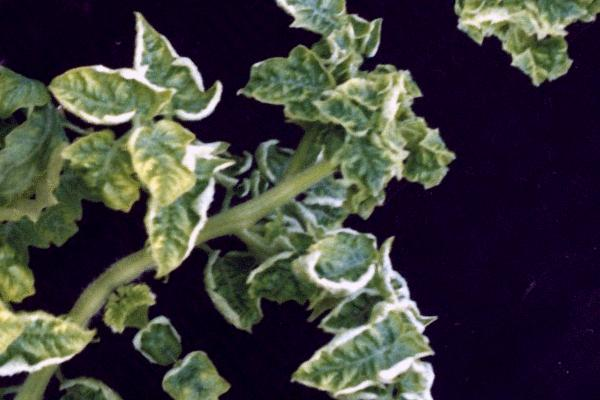Tomato leaf yellow virus: (99, 0, 244, 144), (271, 281, 443, 400), (38, 26, 181, 169), (223, 18, 350, 143), (275, 202, 401, 326), (106, 101, 230, 226), (234, 0, 375, 87), (308, 357, 455, 400)
